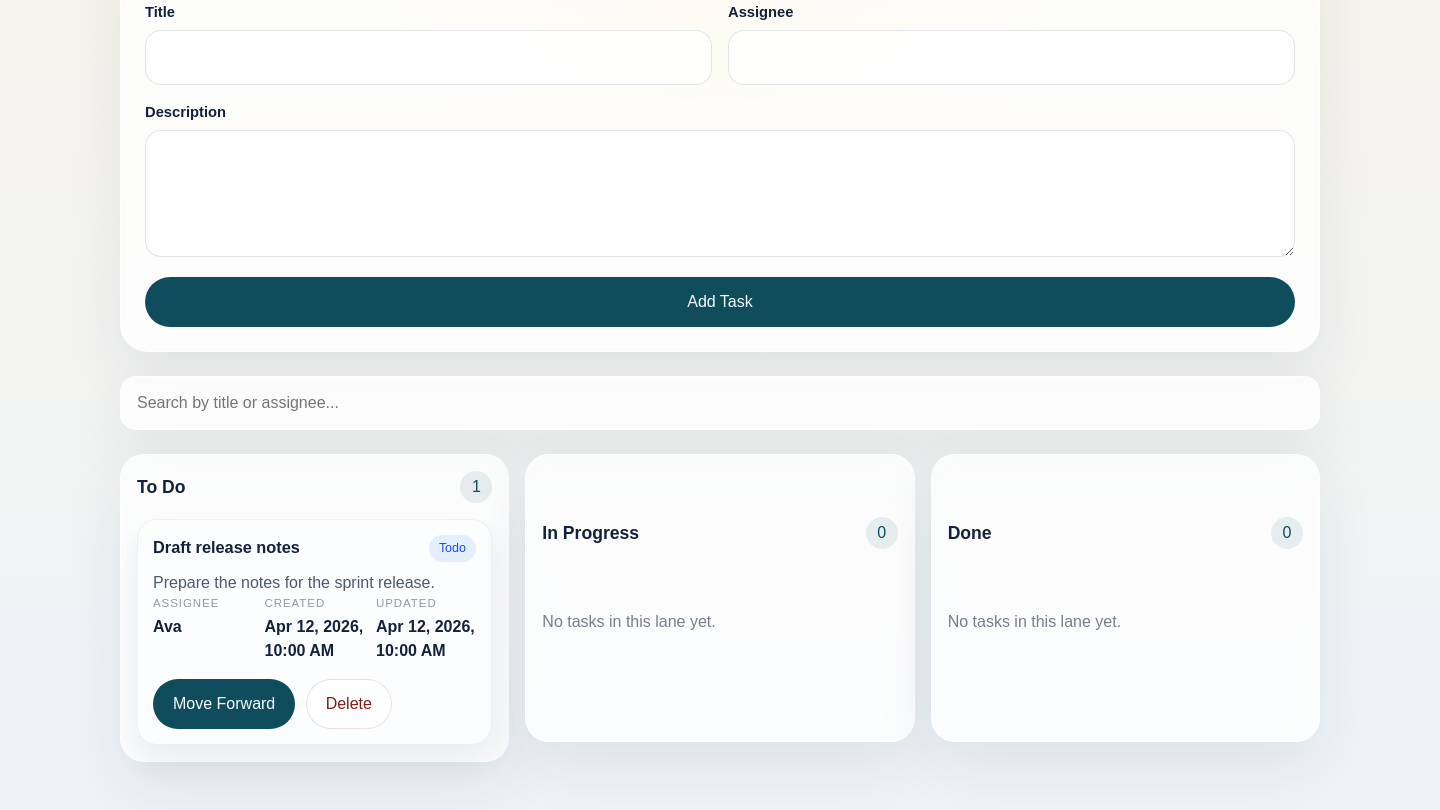
Scenario: App › displays API error messages when an action fails
(page scrolled)
Click the button "Move Forward" at point(224, 704), box x1=153 y1=679 x2=295 y2=729
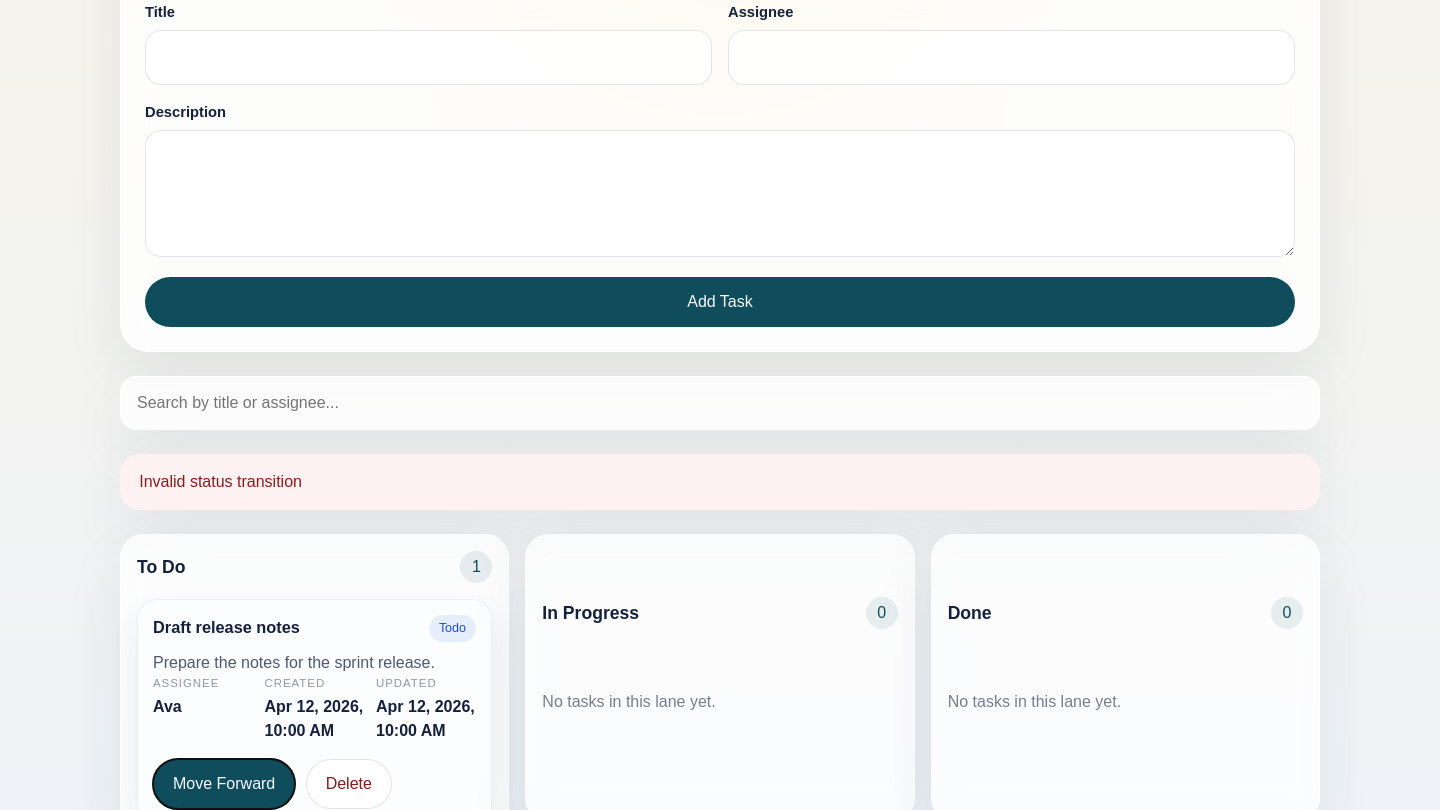
Check: the heading "Draft release notes" is shown, box x1=153 y1=615 x2=300 y2=640
Check: the message reads "Invalid status transition", box x1=139 y1=473 x2=302 y2=490
